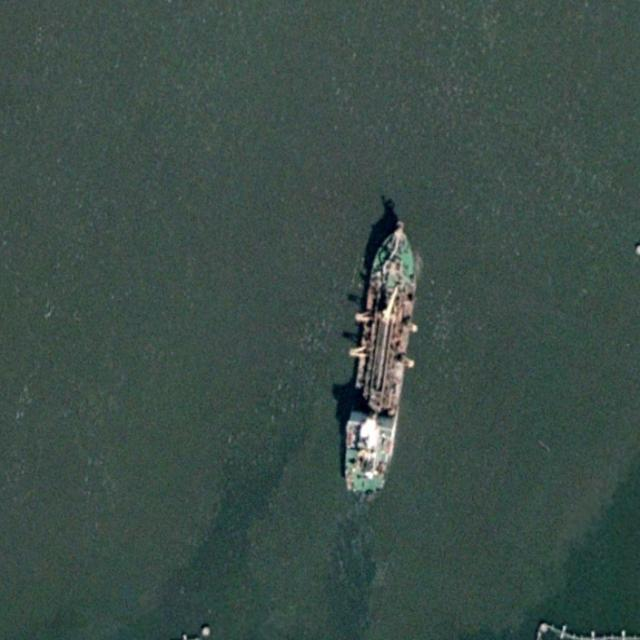Cargo: (340, 214, 424, 501)
